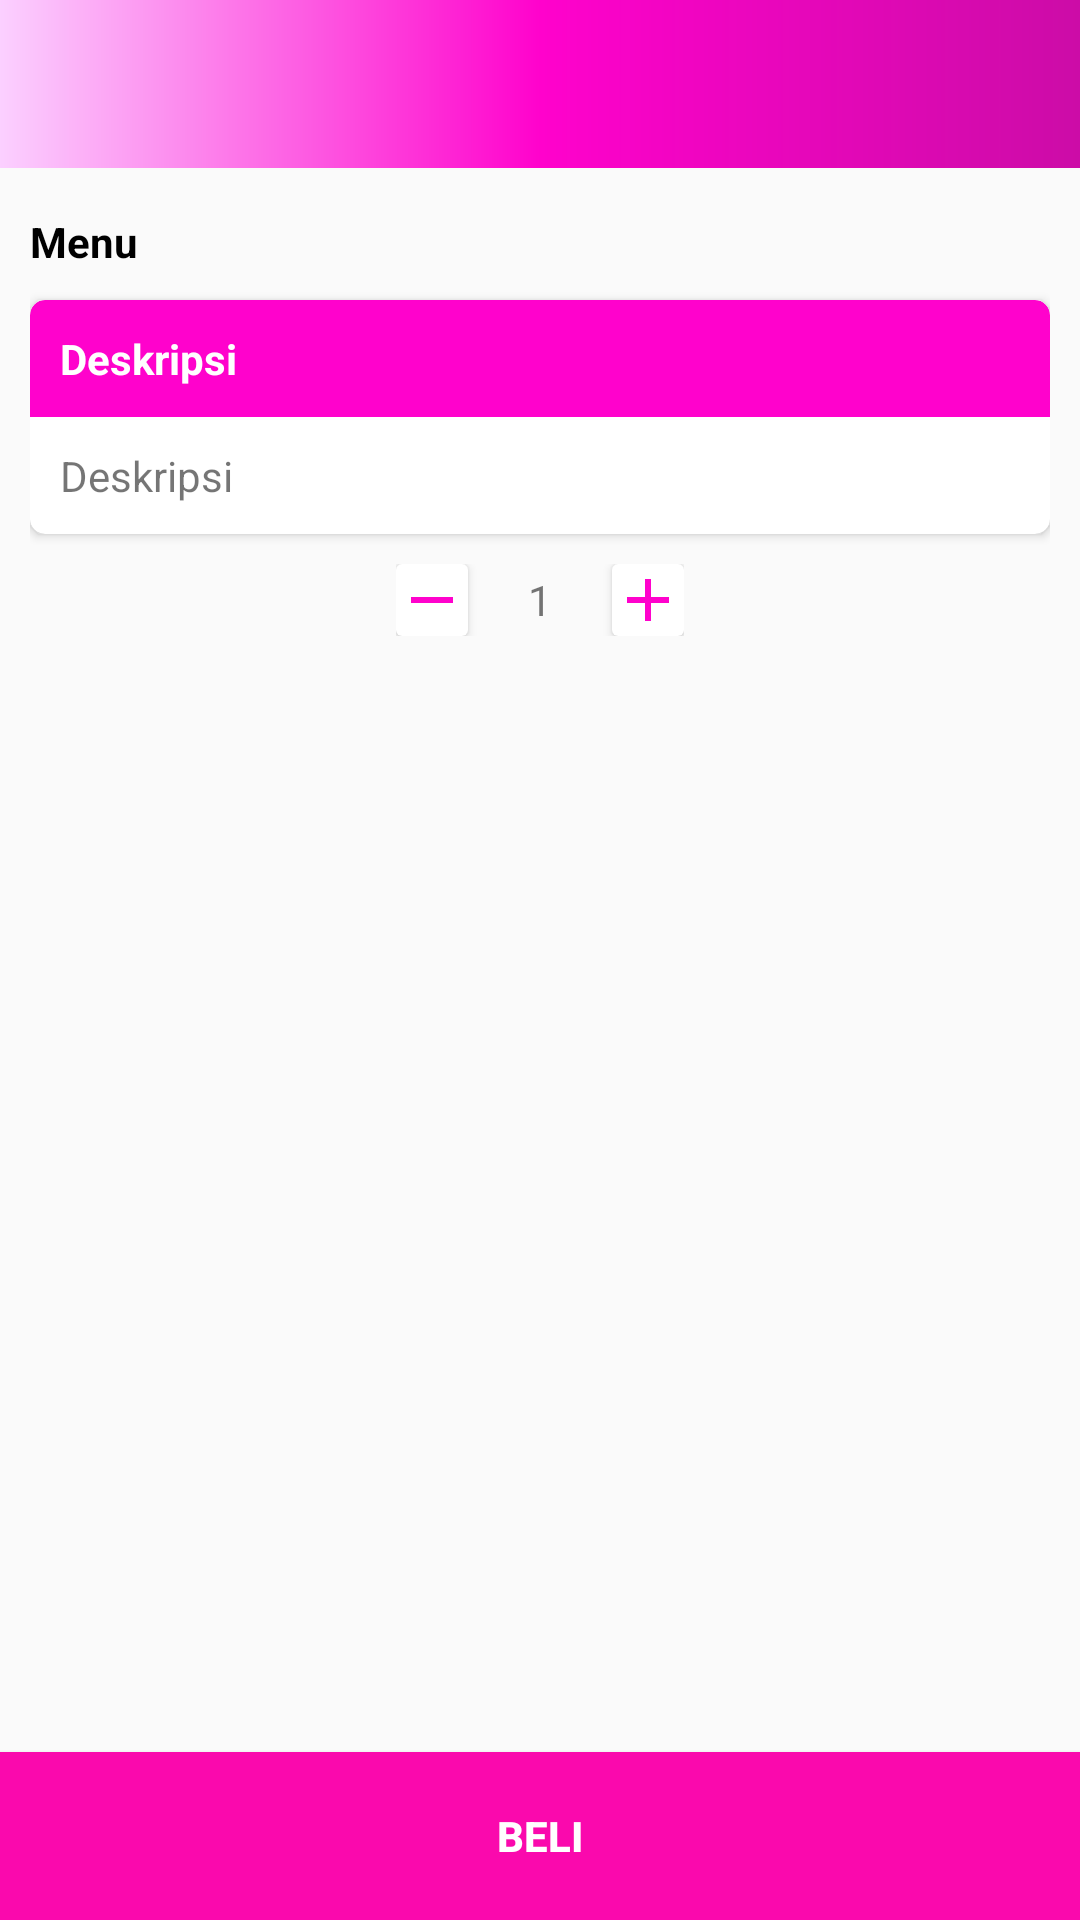

Icon bounding boxes for this 1080×1920 phone screenshot, format (x1, y1, x2, y2):
add: (612, 579, 684, 636)
remove: (396, 597, 468, 636)
